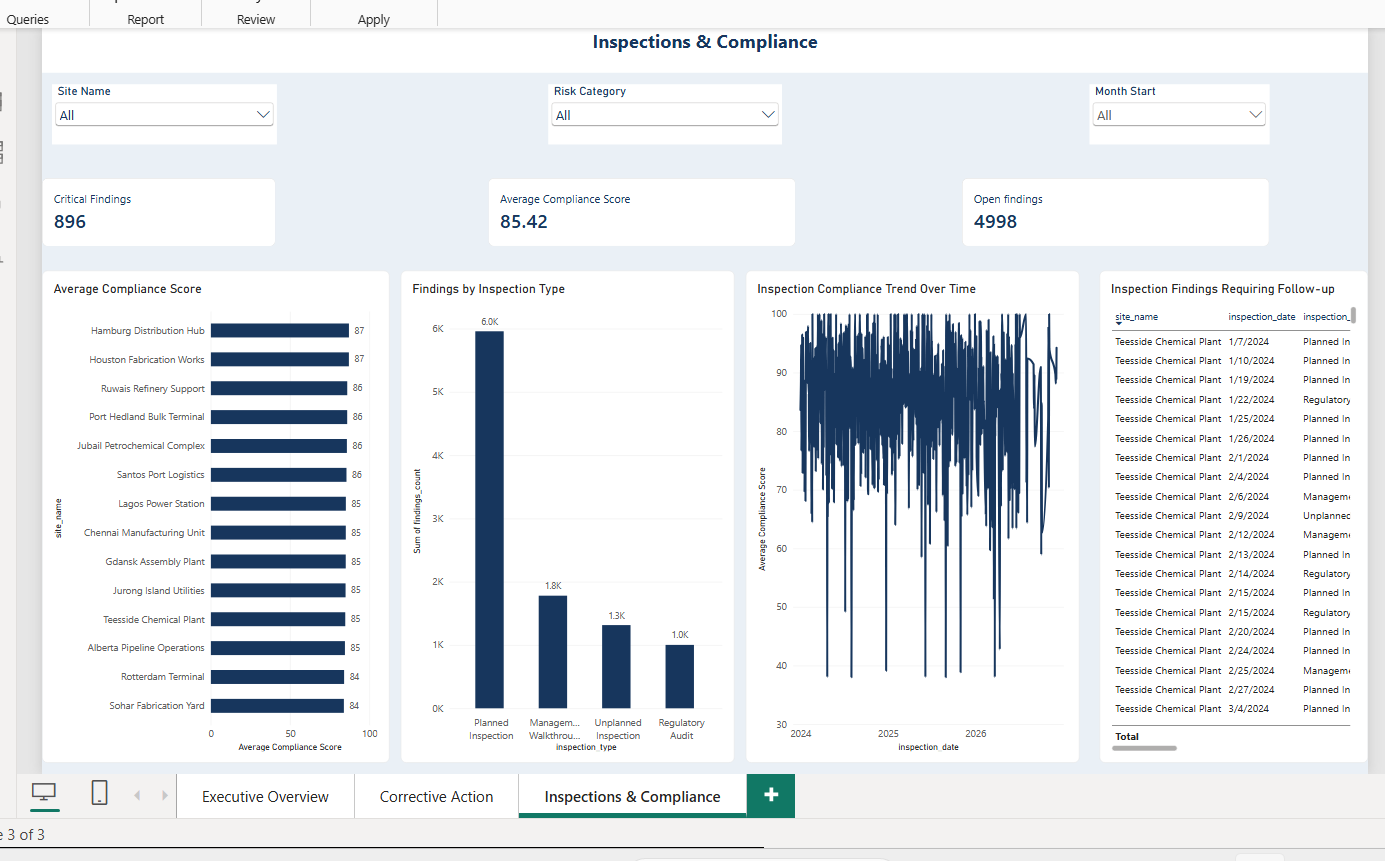

This screenshot's page, from the dashboard's own definition file:
{"tool":"powerbi","page":{"name":"Inspections & Compliance ","canvas":[1920,1080],"ordinal":2},"visuals":[{"type":"cardVisual","fields":{"Data":["inspections.Average Compliance Score"]},"box":[646,217.2,445.2,99.5],"z":0},{"type":"cardVisual","fields":{"Data":["inspections.Critical Findings"]},"box":[0,217.2,338.4,99.5],"z":1000},{"type":"cardVisual","fields":{"Data":["inspections.Open findings"]},"box":[1331.9,217.2,445.2,99.5],"z":2000},{"type":"clusteredBarChart","title":"Average Compliance Score","fields":{"Category":["sites.site_name"],"Y":["inspections.Average Compliance Score"]},"box":[0,351.1,503.1,713],"z":3000},{"type":"columnChart","title":"Findings by Inspection Type ","fields":{"Category":["inspections.inspection_type"],"Y":["Sum(inspections.findings_count)"]},"box":[519.4,351.1,483.2,713],"z":4000},{"type":"lineChart","title":"Inspection Compliance Trend Over Time","fields":{"Category":["inspections.inspection_date.Variation.Date Hierarchy.Year"],"Y":["inspections.Average Compliance Score"]},"box":[1018.8,351.1,483.2,713],"z":5000},{"type":"tableEx","title":"Inspection Findings Requiring Follow-up","fields":{"Values":["sites.site_name","inspections.inspection_date.Variation.Date Hierarchy.Year","inspections.inspection_type","Sum(inspections.findings_count)","Sum(inspections.critical_findings)","Sum(inspections.findings_closed)","Sum(inspections.findings_open)","Sum(inspections.compliance_score_pct)"]},"box":[1531,351.1,389.1,713],"z":6000},{"type":"actionButton","box":[0,0,100,40],"z":7000},{"type":"slicer","fields":{"Values":["Calendar.Month Start"]},"box":[1516.5,81.4,260.6,86.9],"z":8000},{"type":"slicer","fields":{"Values":["sites.site_name"]},"box":[14.5,81.4,325.7,86.9],"z":9000},{"type":"slicer","fields":{"Values":["sites.risk_category"]},"box":[732.9,81.4,338.4,86.9],"z":11000},{"type":"textbox","box":[0,0,1920.1,65.1],"z":11001}]}

Visuals, with their boxes on the page's 1920x1080 design canvas (x1, y1, x2, y2). These are canvas units, not pixel positions in the 1385x861 screenshot, which may show the page scaled, cropped or inside an application window:
cardVisual - inspections.Average Compliance Score: (646,217,1091,317)
cardVisual - inspections.Critical Findings: (0,217,338,317)
cardVisual - inspections.Open findings: (1332,217,1777,317)
"Average Compliance Score" clusteredBarChart: (0,351,503,1064)
"Findings by Inspection Type " columnChart: (519,351,1003,1064)
"Inspection Compliance Trend Over Time" lineChart: (1019,351,1502,1064)
"Inspection Findings Requiring Follow-up" tableEx: (1531,351,1920,1064)
actionButton: (0,0,100,40)
slicer - Calendar.Month Start: (1516,81,1777,168)
slicer - sites.site_name: (14,81,340,168)
slicer - sites.risk_category: (733,81,1071,168)
textbox: (0,0,1920,65)
